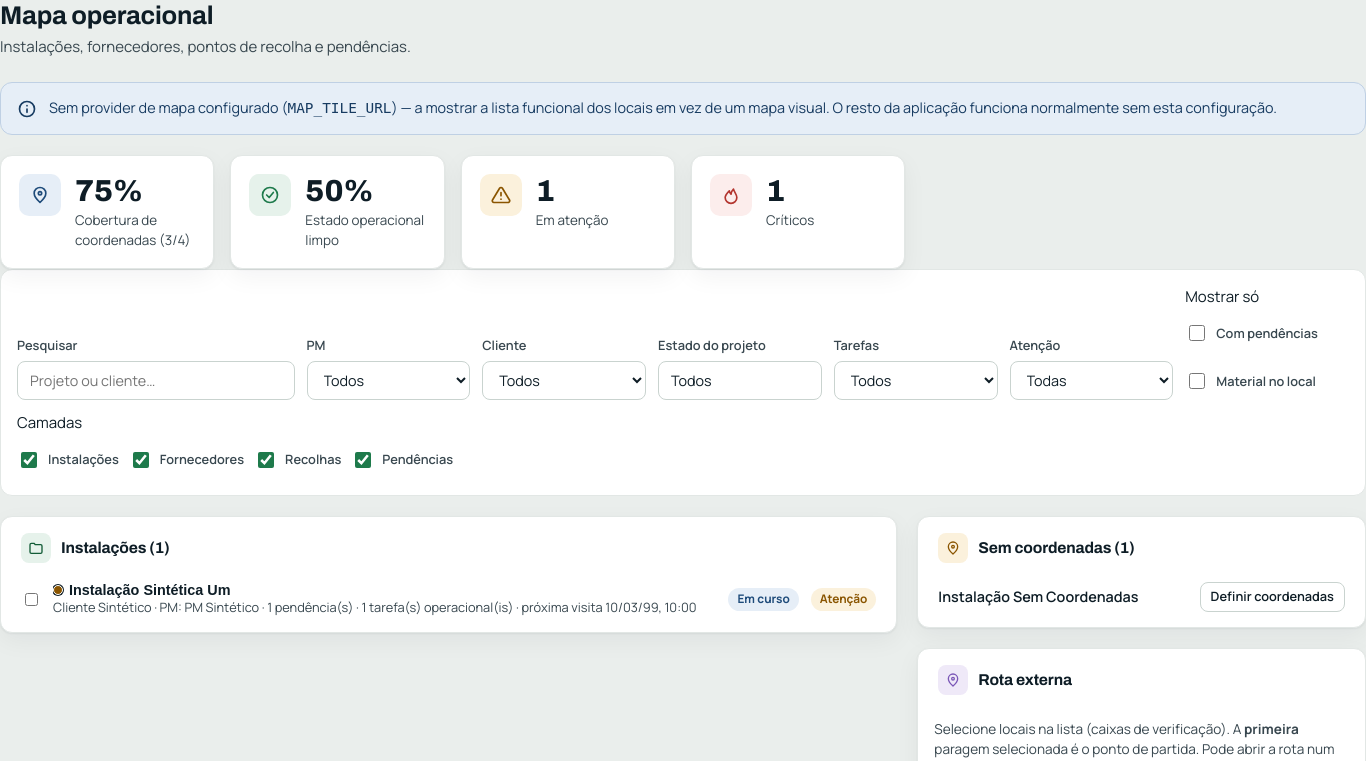
Test case: Mapa operacional › não oferece 'Criar tarefa' sem permissão de tarefas
The width and height of the screenshot is (1366, 761).
Click the button "Instalação Sintética Um": (142, 590) top-left (53, 582), bottom-right (231, 598)
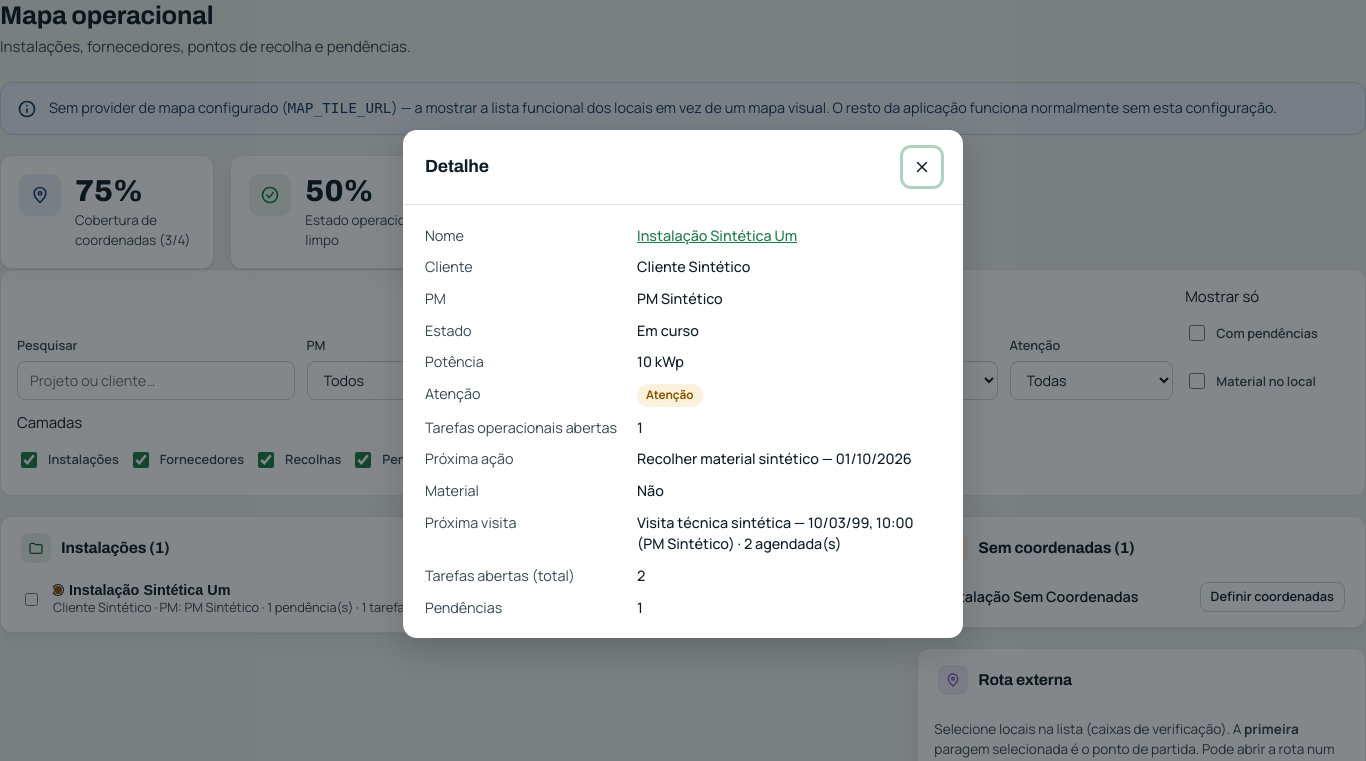
Now the heading "Detalhe" is shown, box top-left (425, 156), bottom-right (489, 178)
